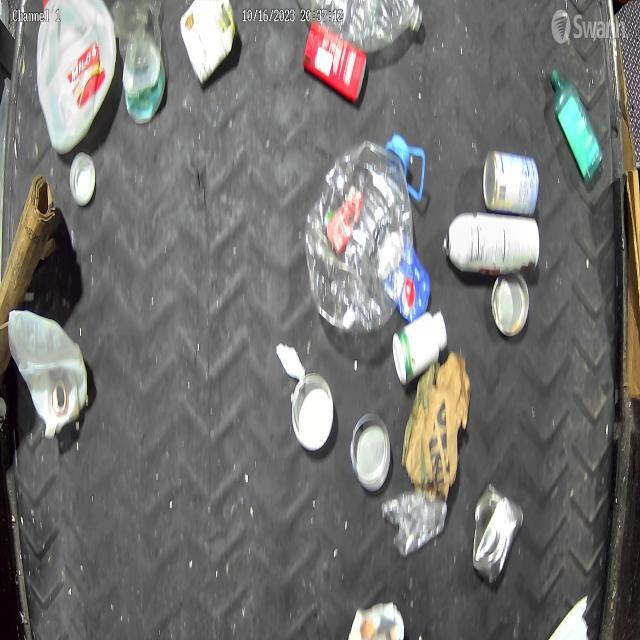can: (276, 331, 335, 454), (298, 13, 369, 108), (376, 222, 434, 330), (468, 486, 526, 583), (178, 0, 239, 84), (477, 141, 540, 221)
milk_jug: (32, 0, 122, 158), (10, 304, 91, 447)
plastic_bottle: (302, 132, 425, 339), (292, 0, 430, 62)
